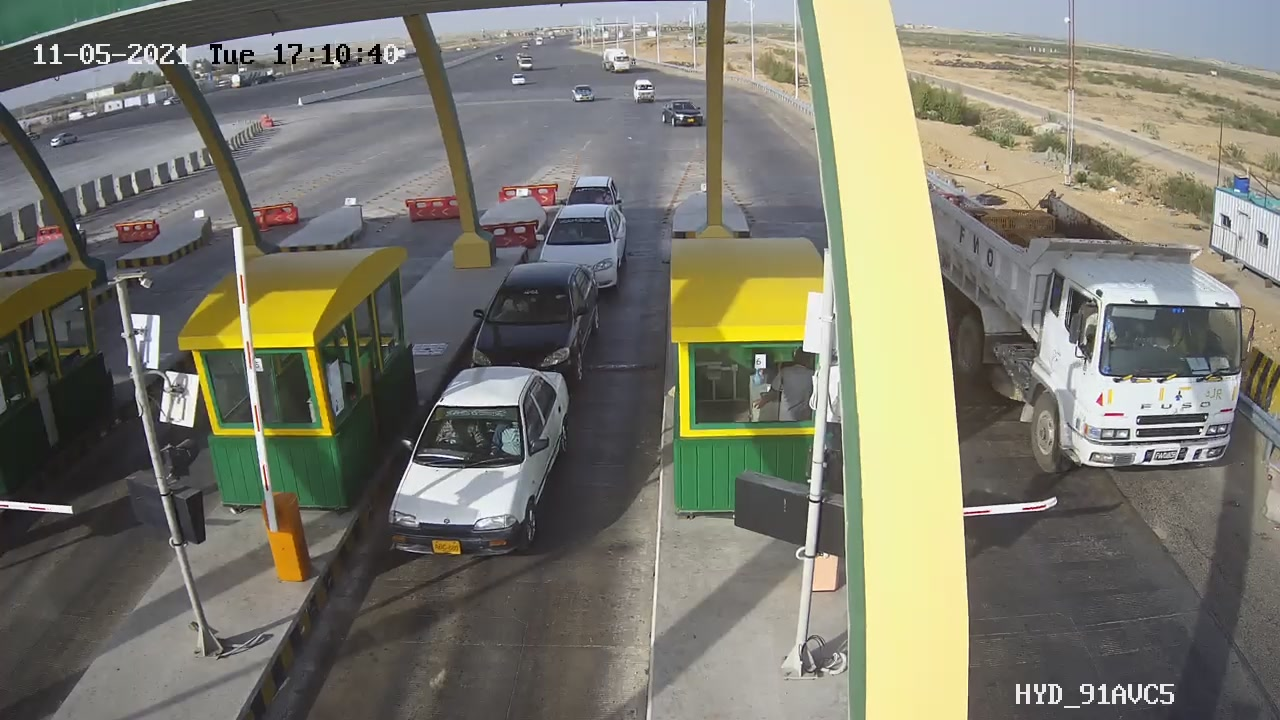F1: (368, 355, 596, 569), (451, 247, 631, 387)
